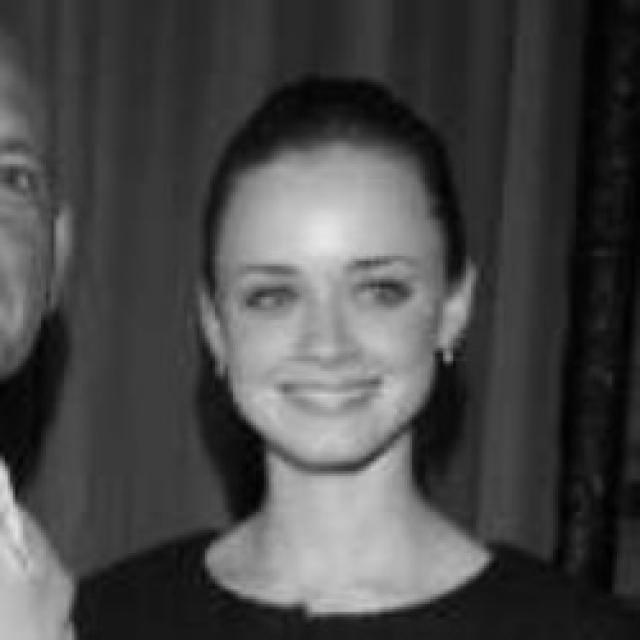real: (193, 140, 462, 476), (236, 266, 411, 325), (0, 164, 40, 204)
